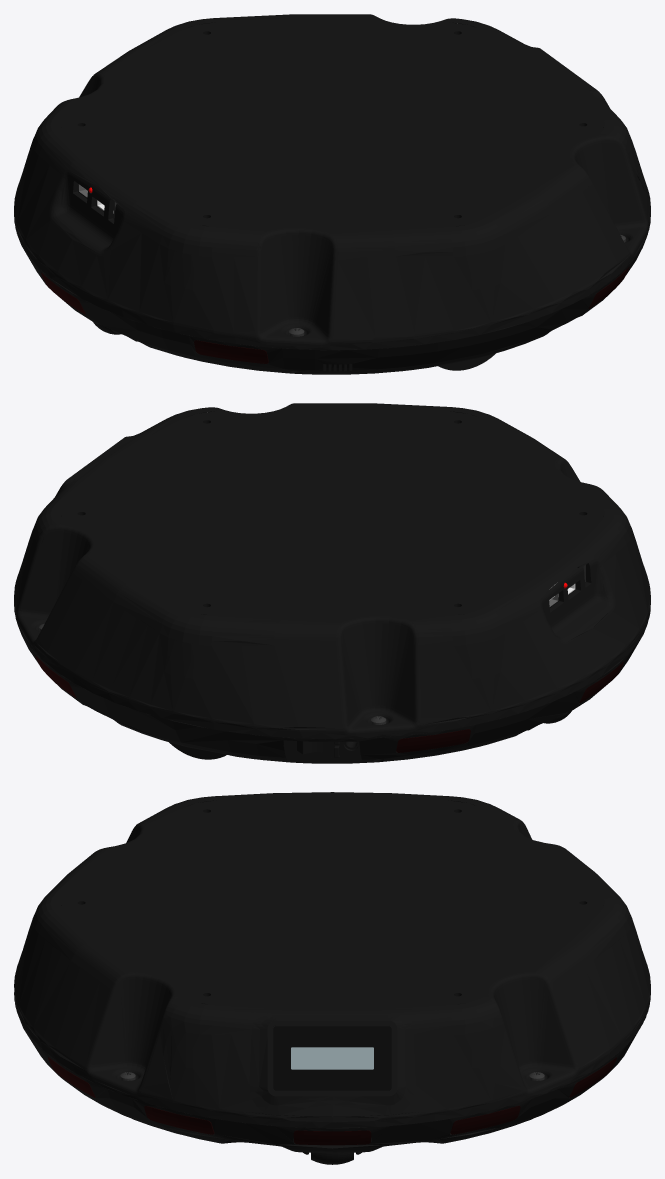
File: spark_base.DAE
3 views of the same model, one above another, from view 1: azimuth 30°, elevation 25°; view 2: azimuth 150°, elevation 25°; view 3: azimuth 270°, elevation 25° (orthographic).
Parts seen in each view (by area): view 1: _DC_Shell (×3); view 2: _DC_Shell (×4); view 3: _DC_Shell (×7).
Part boxes in pixels (<box>): _DC_Shell (×3): <box>14,14,650,374</box>; _DC_Shell (×4): <box>14,403,650,763</box>; _DC_Shell (×7): <box>14,792,650,1152</box>.
Bounding box in the file's own units: 330 × 330 × 87.
